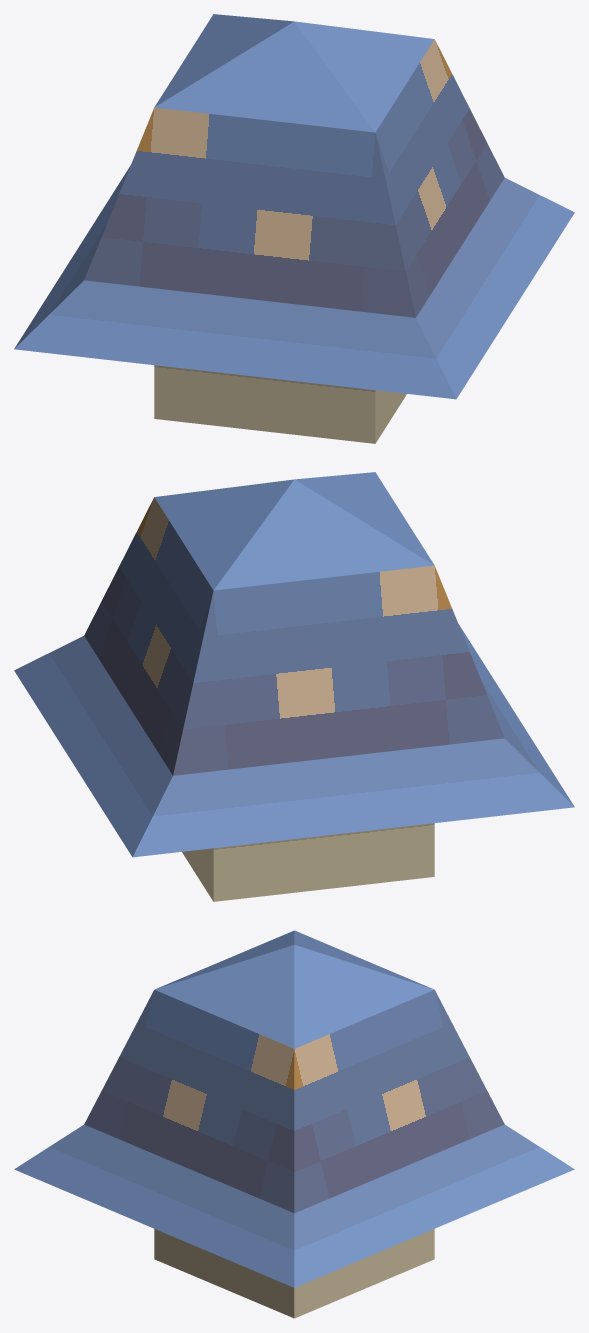
Rendered from mushroom_a.fbx.
3 views of the same model, one above another, from view 1: azimuth 30°, elevation 25°; view 2: azimuth 150°, elevation 25°; view 3: azimuth 270°, elevation 25° (orthographic). The views are drawn at different scales.
Parts seen in each view (by area): view 1: Shroom A; view 2: Shroom A; view 3: Shroom A.
Part boxes in pixels (<box>): Shroom A: <box>14,14,574,443</box>; Shroom A: <box>14,472,574,901</box>; Shroom A: <box>14,930,574,1318</box>.
Size of the model in its own units: 35.36 by 21.94 by 35.36.
1 material, 1 textured.
